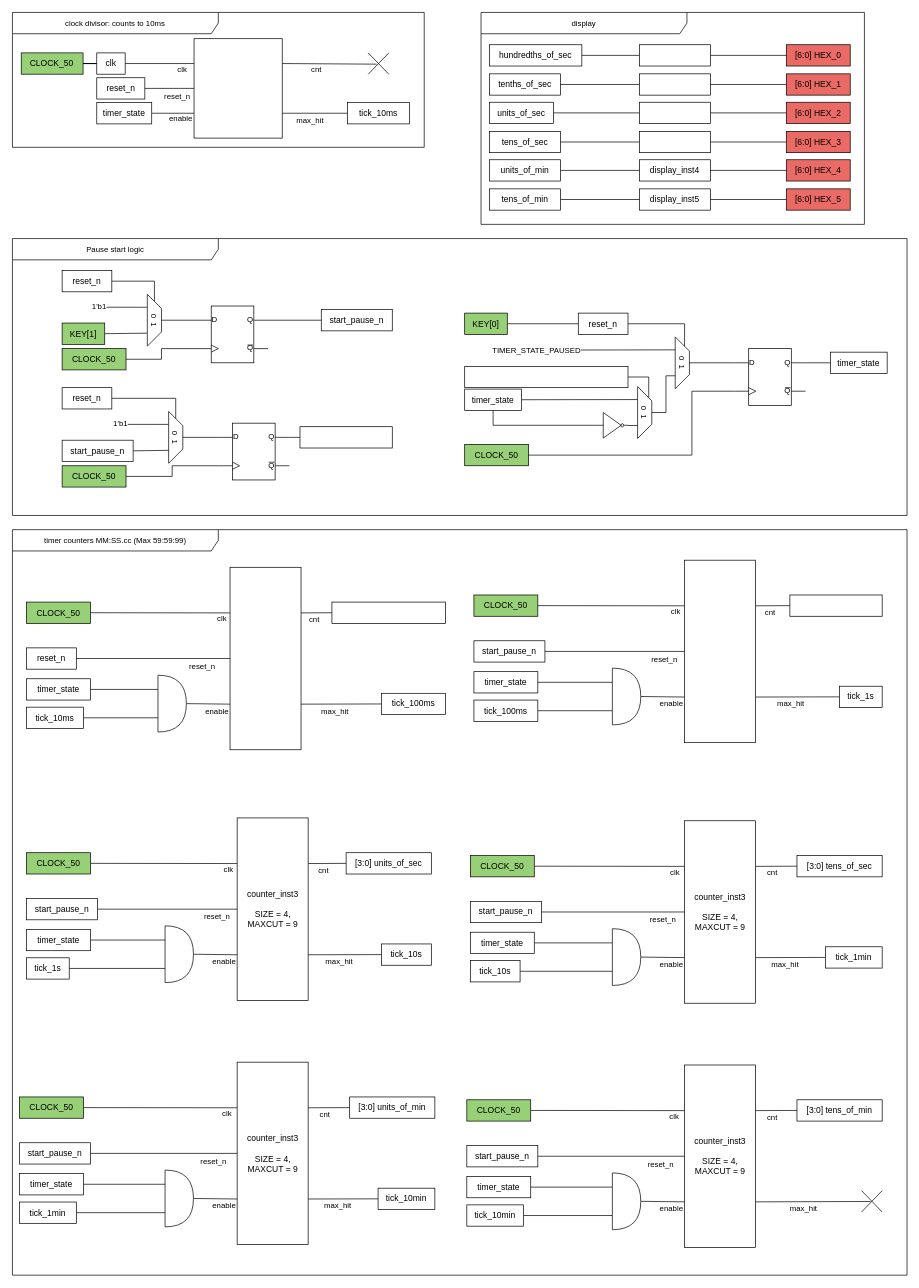
The diagram is 919 pixels wide and 1288 high, and some of its shapes have lost their labels. Here are the shapes that lost their labels. From the top down, the centre of each, then its label:
At pixel 674 55: "display_inst0".
At pixel 237 88: "counter_inst0 SIZE = 19 MAXCUT = 499999".
At pixel 674 84: "display_inst1".
At pixel 674 113: "display_inst2".
At pixel 674 142: "display_inst3".
At pixel 546 377: "!start_pause_n & start_pause_n_prev".
At pixel 345 437: "start_pause_n_prev".
At pixel 388 612: "[3:0] hundredths_of_sec".
At pixel 835 605: "[3:0] tenths_of_sec".
At pixel 265 658: "counter_inst1 SIZE = 4, MAXCUT = 9".
At pixel 719 651: "counter_inst2 SIZE = 4, MAXCUT = 9".
